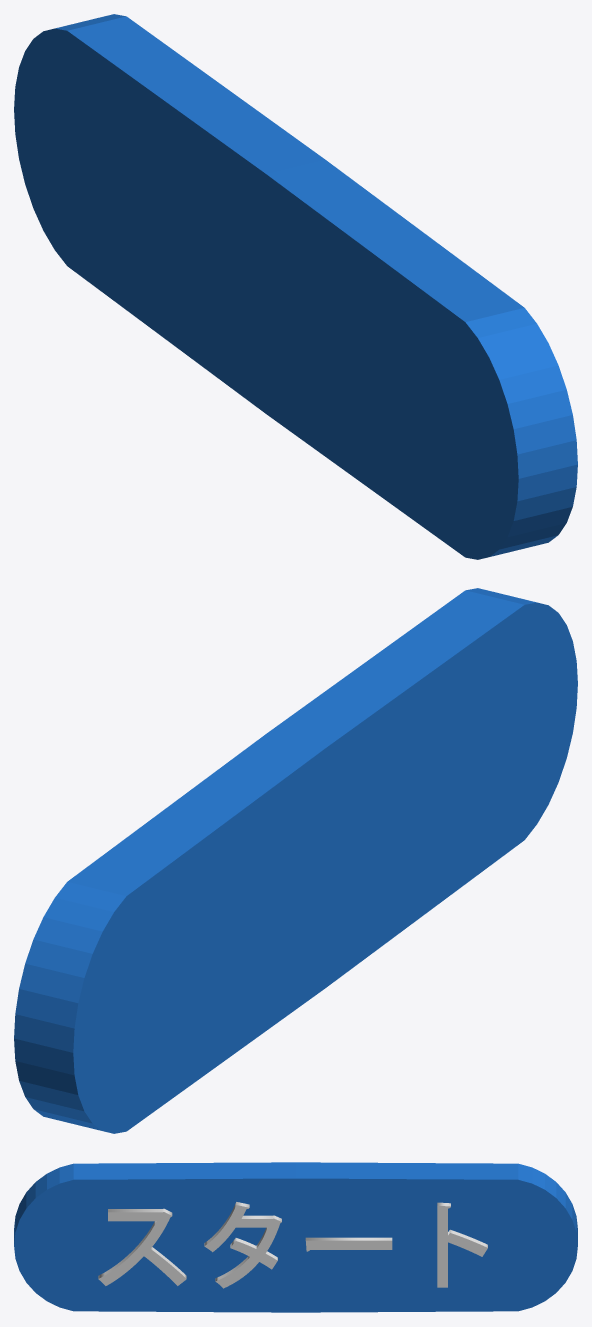
File: start_button_2.glb
3 renders of one model, top to bottom at view 1: azimuth 30°, elevation 25°; view 2: azimuth 150°, elevation 25°; view 3: azimuth 270°, elevation 25°, orthographic. The views are drawn at different scales.
Visible parts, largest first — view 1: 円柱; view 2: 円柱; view 3: 円柱, テキスト.
Part boxes in pixels (x1,y1,x2,y2): 円柱: [14, 14, 577, 559]; 円柱: [14, 588, 577, 1133]; 円柱: [14, 1162, 577, 1312]; テキスト: [98, 1202, 487, 1288].
Size of the model in its own units: 0.6203 by 2 by 7.62.
1 material, 1 textured.
